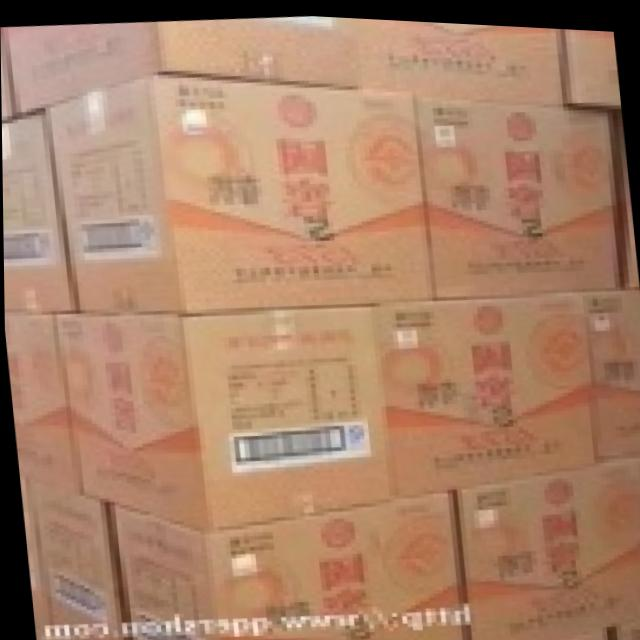box: (44, 70, 431, 311), (55, 302, 393, 528), (113, 484, 466, 640), (374, 285, 598, 491), (411, 90, 614, 292), (3, 13, 355, 115), (455, 449, 640, 640), (355, 14, 558, 97), (33, 482, 126, 640), (1, 114, 74, 309), (4, 312, 78, 491), (590, 283, 640, 452), (19, 483, 52, 640), (563, 23, 620, 98), (617, 109, 638, 283), (549, 623, 606, 640), (614, 613, 640, 637)
